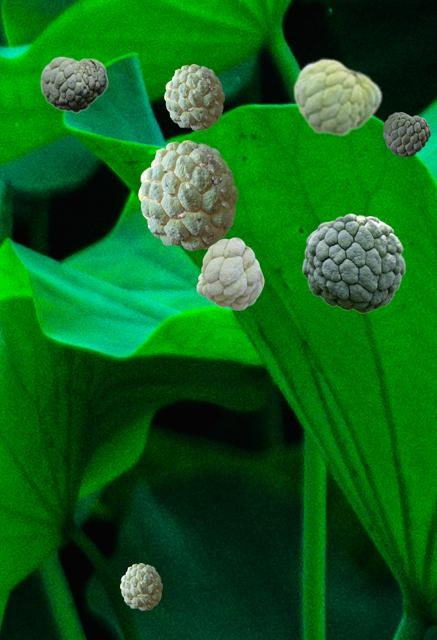atis: (138, 140, 236, 249), (302, 213, 404, 312), (292, 57, 381, 136), (196, 237, 263, 309), (164, 64, 223, 129), (40, 56, 107, 112), (383, 112, 429, 155), (120, 563, 161, 609)
